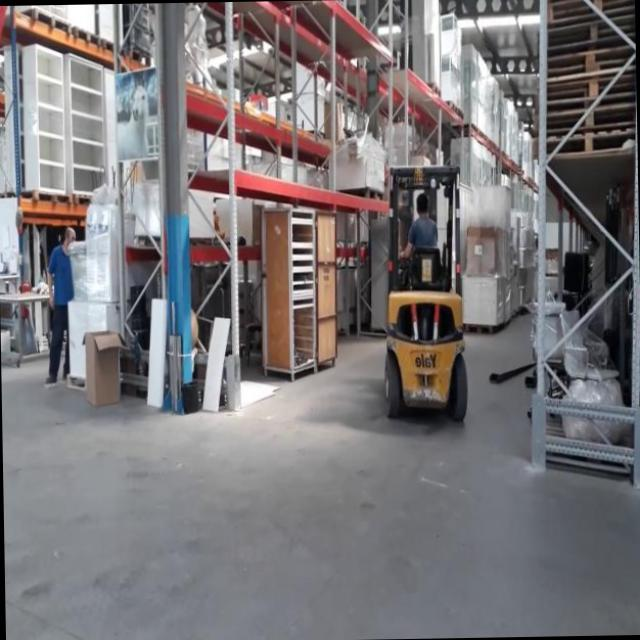driver: (398, 190, 440, 270)
forklift: (374, 155, 476, 430)
person: (40, 227, 78, 390)
